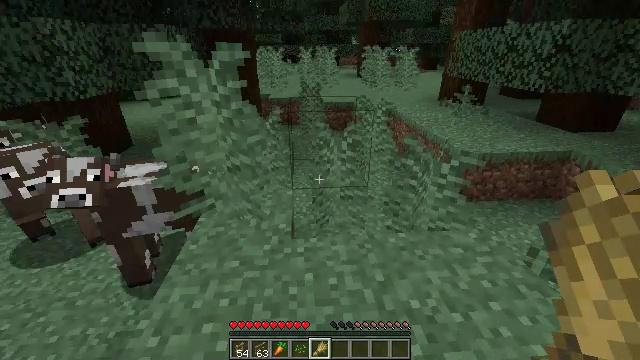cow: (54, 159, 223, 287), (0, 147, 83, 239)
